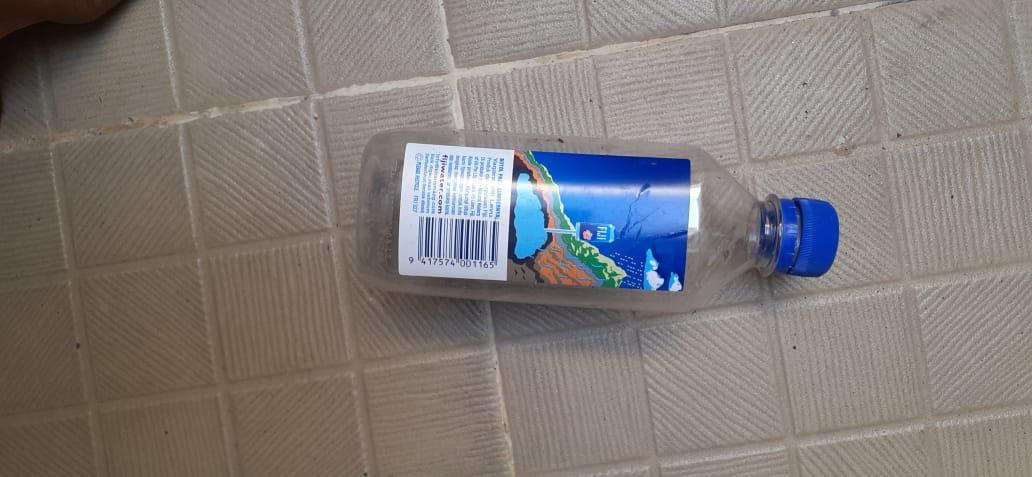Plastik: (356, 125, 838, 312)
